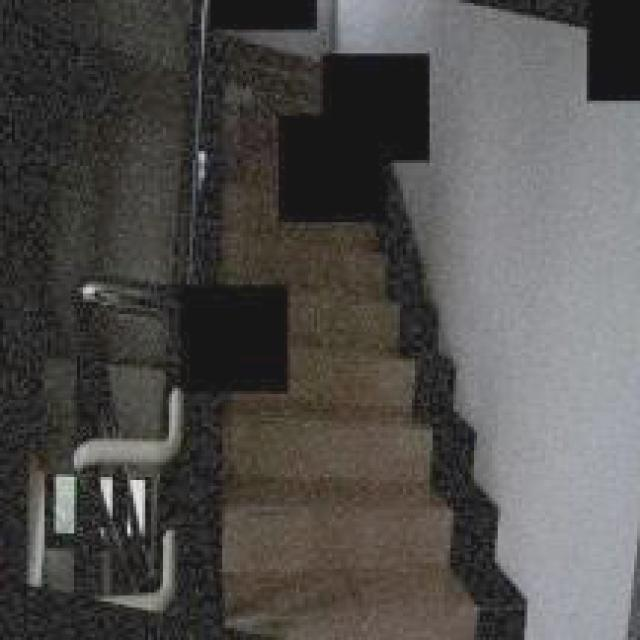upstair: (191, 419, 508, 640)
